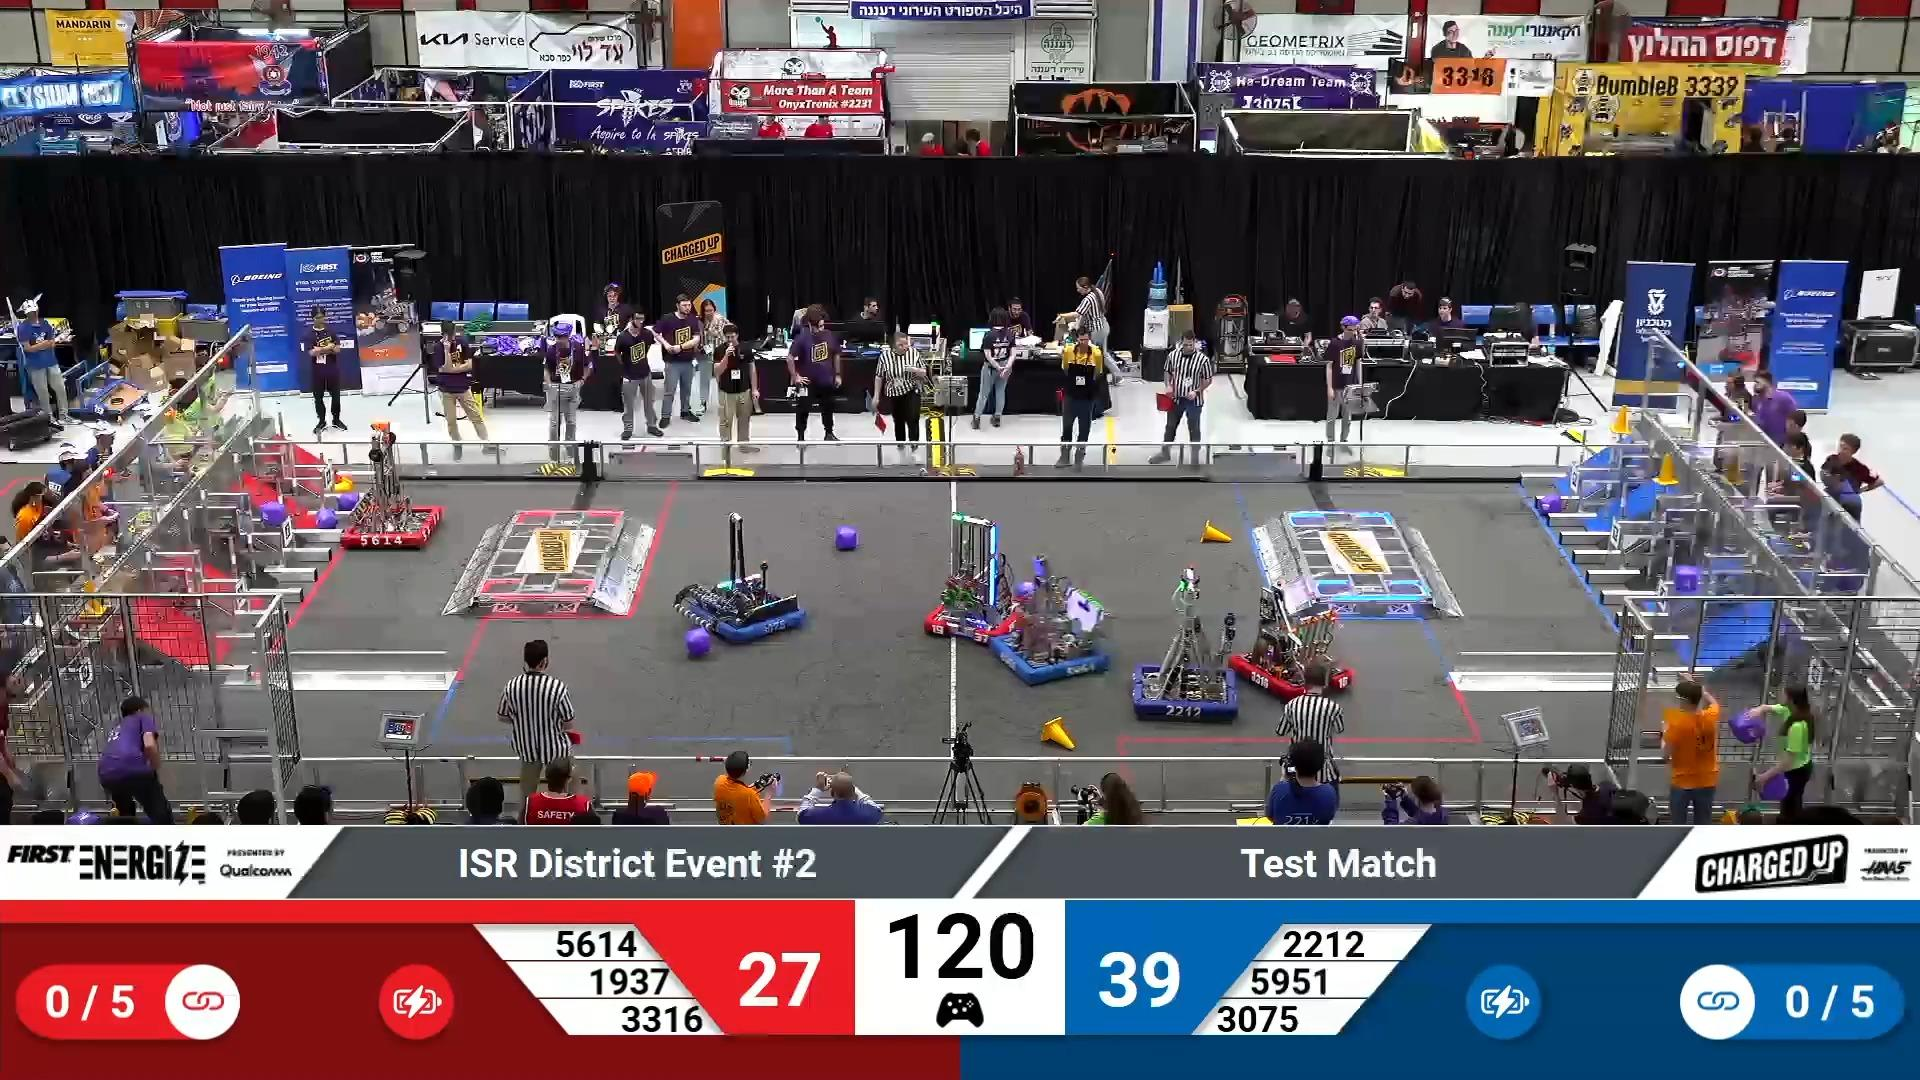robot: (1125, 560, 1236, 724), (674, 512, 807, 645), (984, 566, 1106, 684), (923, 510, 1030, 645), (1232, 587, 1356, 699), (339, 417, 443, 549)
